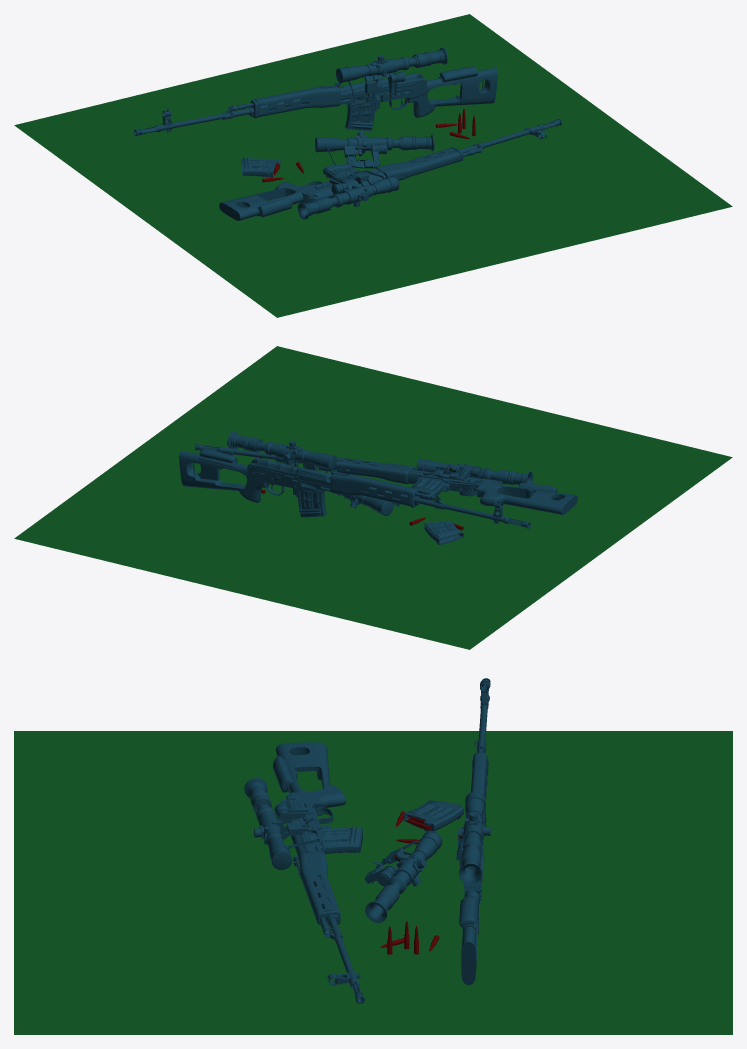
The model's file is SVD63.fbx.
The picture shows the model from 3 angles, top to bottom: view 1: azimuth 30°, elevation 25°; view 2: azimuth 150°, elevation 25°; view 3: azimuth 270°, elevation 25°; orthographic projection. The views are drawn at different scales.
Visible parts, largest first — view 1: Floor, Dragunov, Dragunov 2, Scope, Laying Mag; view 2: Floor, Dragunov, Dragunov 2, Laying Mag, Scope; view 3: Floor, Dragunov 2, Dragunov, Scope, Laying Mag.
Part boxes in pixels (bbox=[...]): Floor: bbox=[14, 14, 732, 317]; Dragunov: bbox=[134, 47, 497, 136]; Dragunov 2: bbox=[219, 118, 561, 220]; Scope: bbox=[315, 131, 434, 168]; Laying Mag: bbox=[241, 157, 303, 182]; Floor: bbox=[14, 346, 732, 649]; Dragunov: bbox=[179, 431, 530, 528]; Dragunov 2: bbox=[195, 443, 577, 514]; Laying Mag: bbox=[409, 517, 463, 544]; Scope: bbox=[317, 469, 399, 515]; Floor: bbox=[14, 731, 732, 1034]; Dragunov 2: bbox=[244, 742, 365, 1003]; Dragunov: bbox=[455, 678, 490, 985]; Scope: bbox=[364, 831, 442, 923]; Laying Mag: bbox=[396, 800, 464, 844].
Bounding box in the file's own units: 1702 × 259 × 1702.
